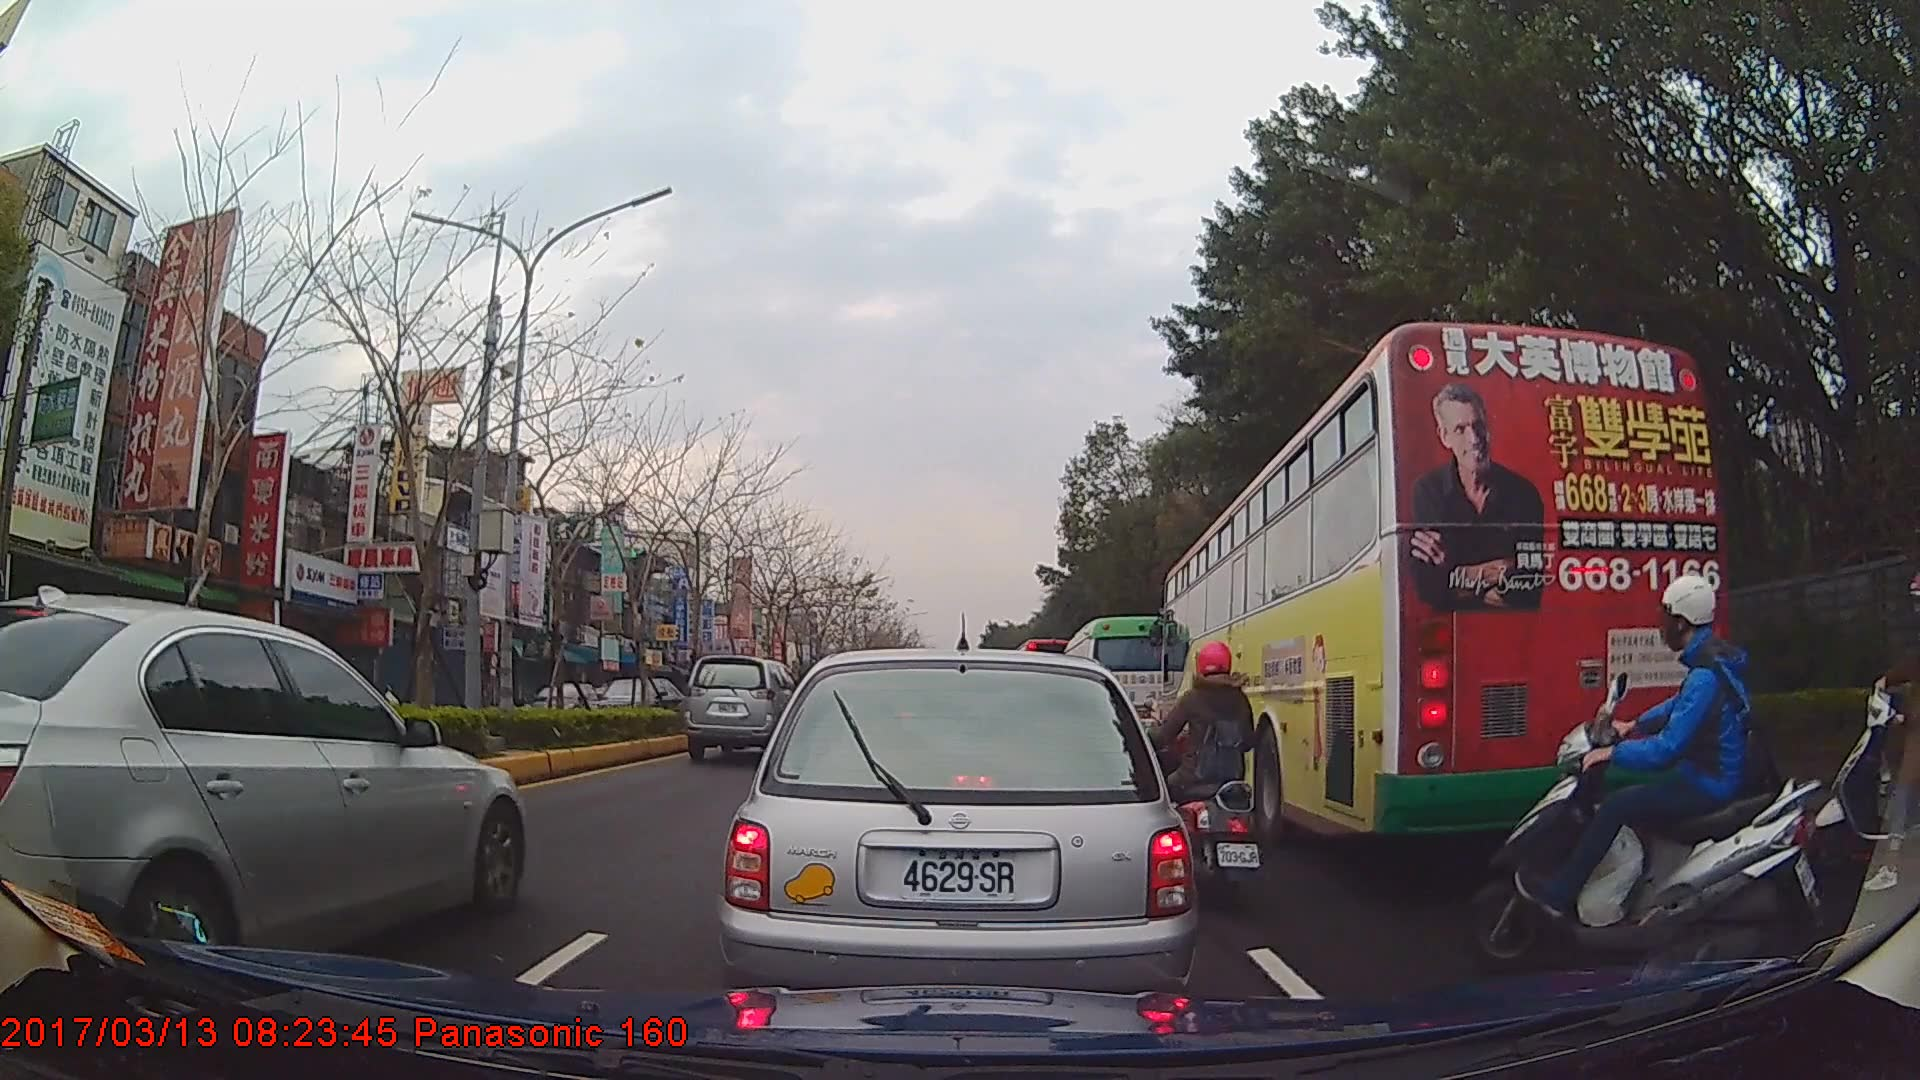rider: (1456, 573, 1819, 976), (1810, 571, 1920, 897), (1137, 638, 1262, 906)
vehicle: (1160, 320, 1727, 854), (0, 574, 525, 986), (716, 645, 1195, 1031), (1061, 614, 1186, 756), (683, 652, 811, 762), (583, 675, 683, 729), (517, 676, 599, 726)
